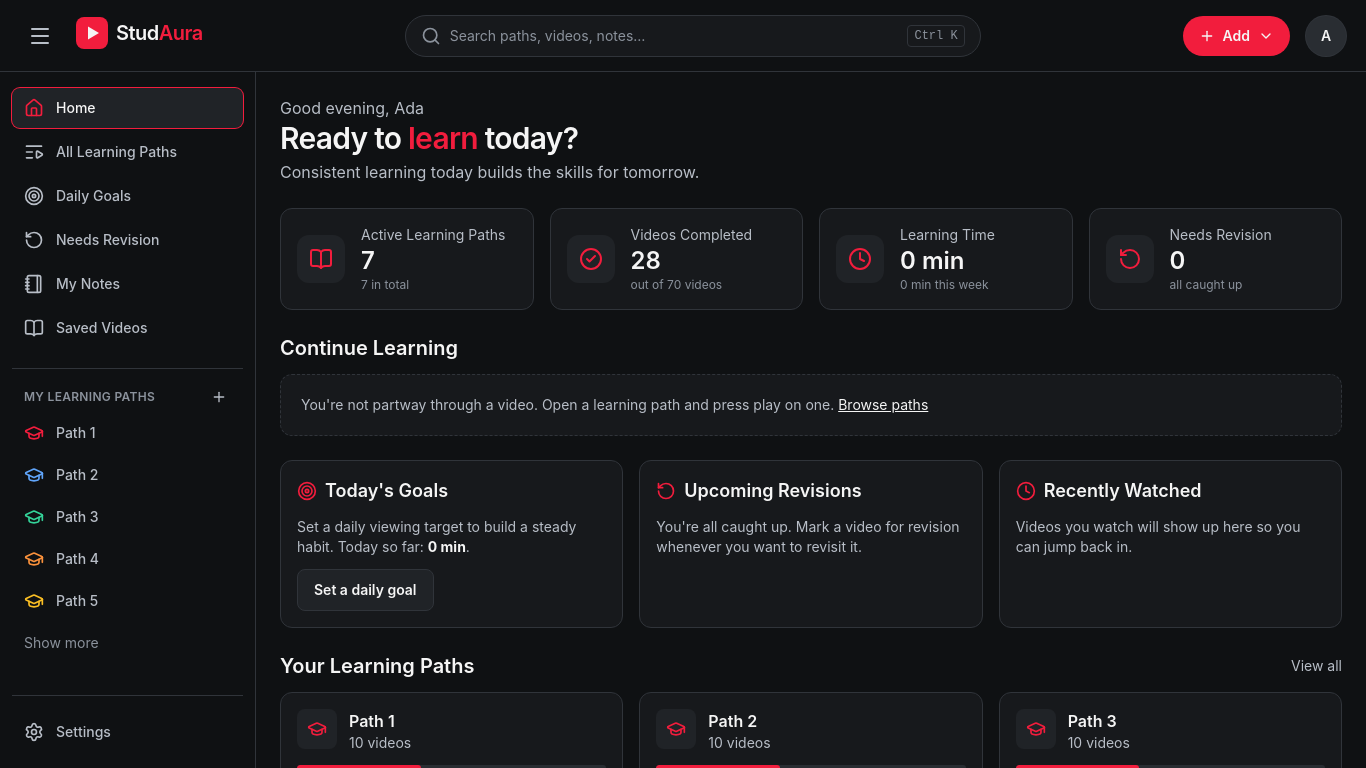
Scenario: sidebar learning paths › opens the create dialog from the + button
Expected: the navigation bar named "Main" is shown, [0,72,255,767]
Click the button named "Create learning path" at x=219, y=397, box [207,385,231,409]
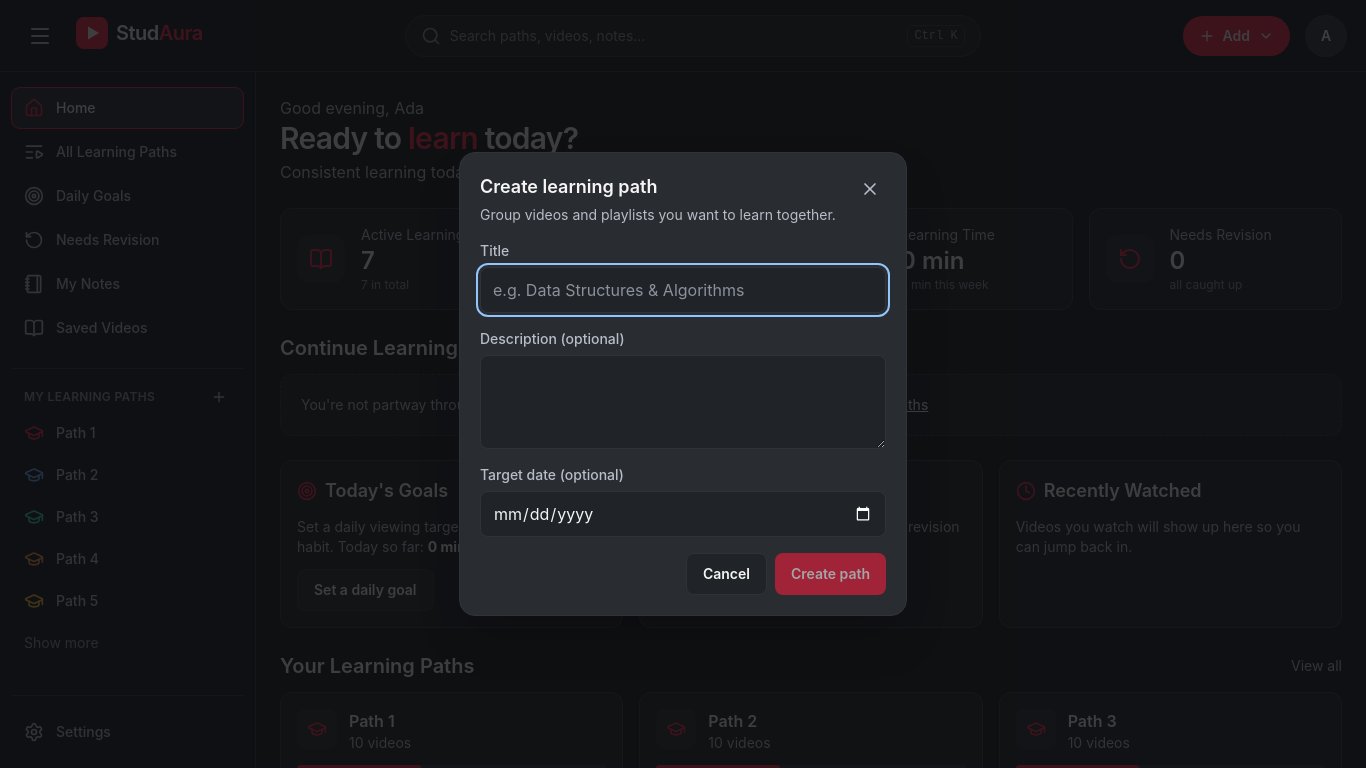
Result: the dialog "Create learning path" is shown at [459,152,907,616]
